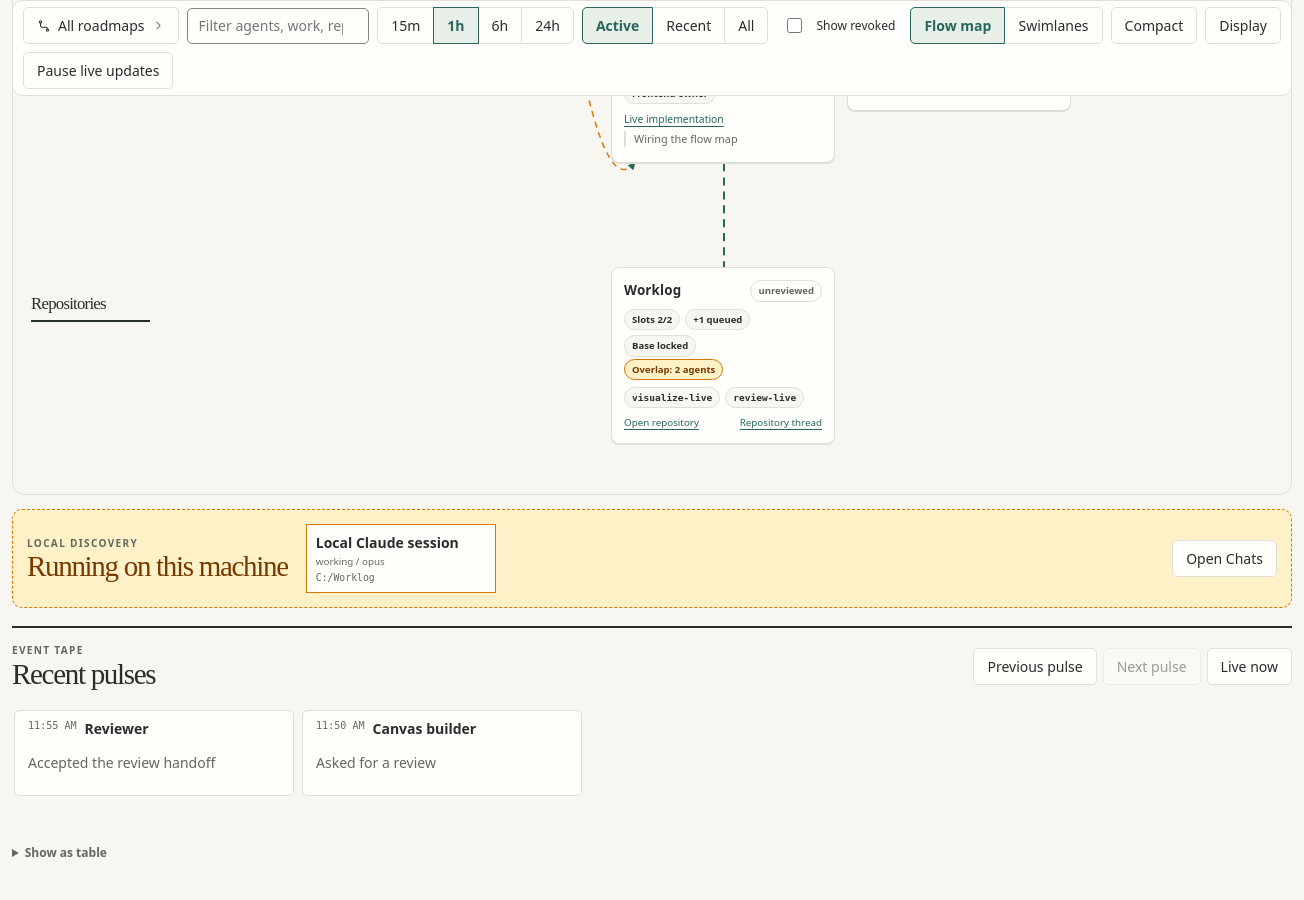
Scenario: Live › exposes active connections and pulses as tables
(page scrolled)
Click the heading "Show as table": (59, 852) [12,843,107,862]
(page scrolled)
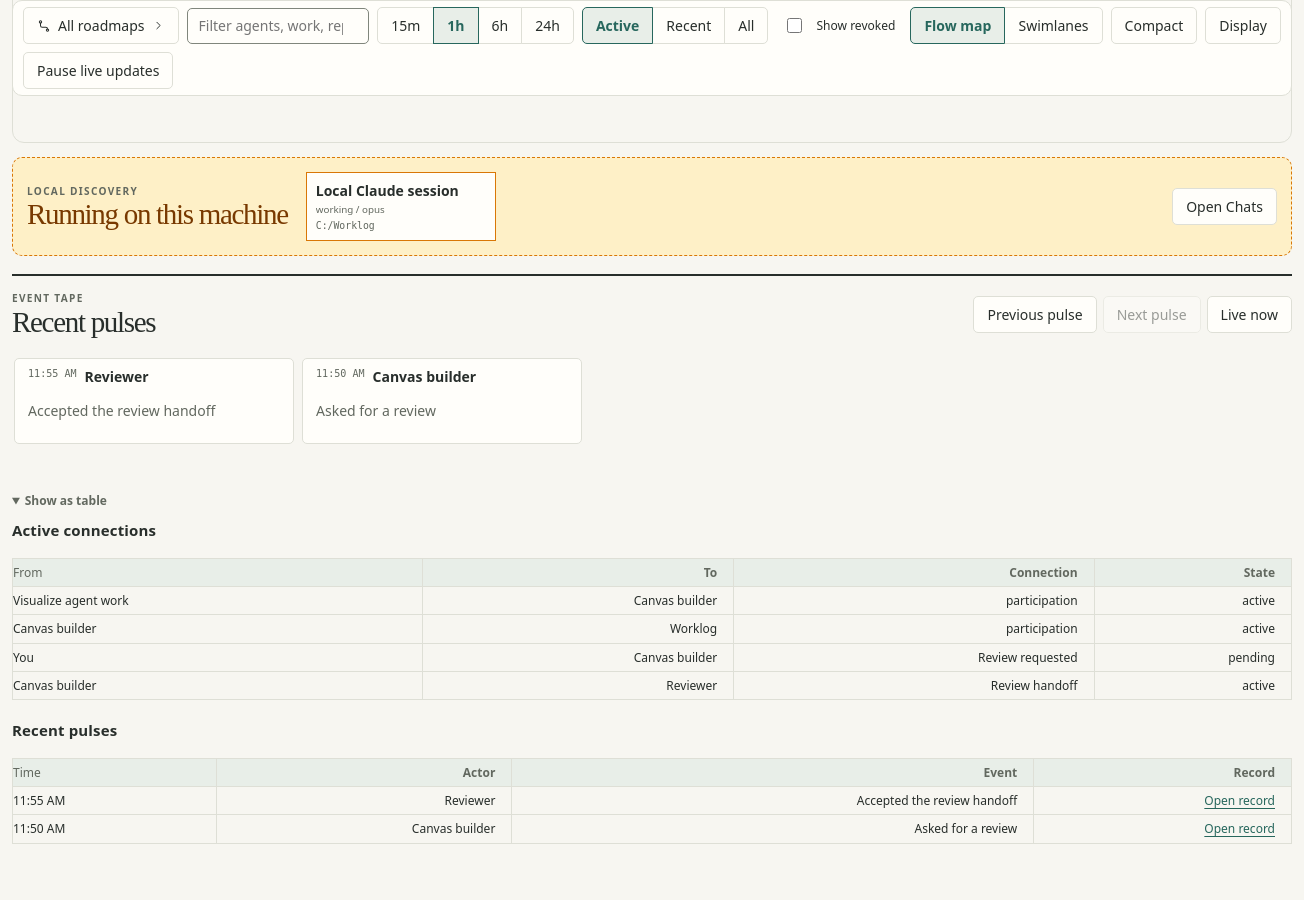
Now the heading "Active connections" is shown, box [12,520,156,540]
Now the column heading "Connection" is shown, box [734,559,1094,587]
Now the heading "Recent pulses" below "Review requested" is shown, box [12,720,117,740]
